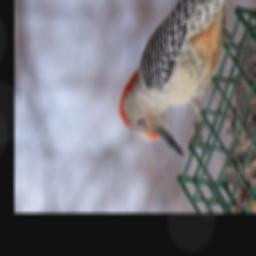Woodpecker: (118, 0, 245, 155)
